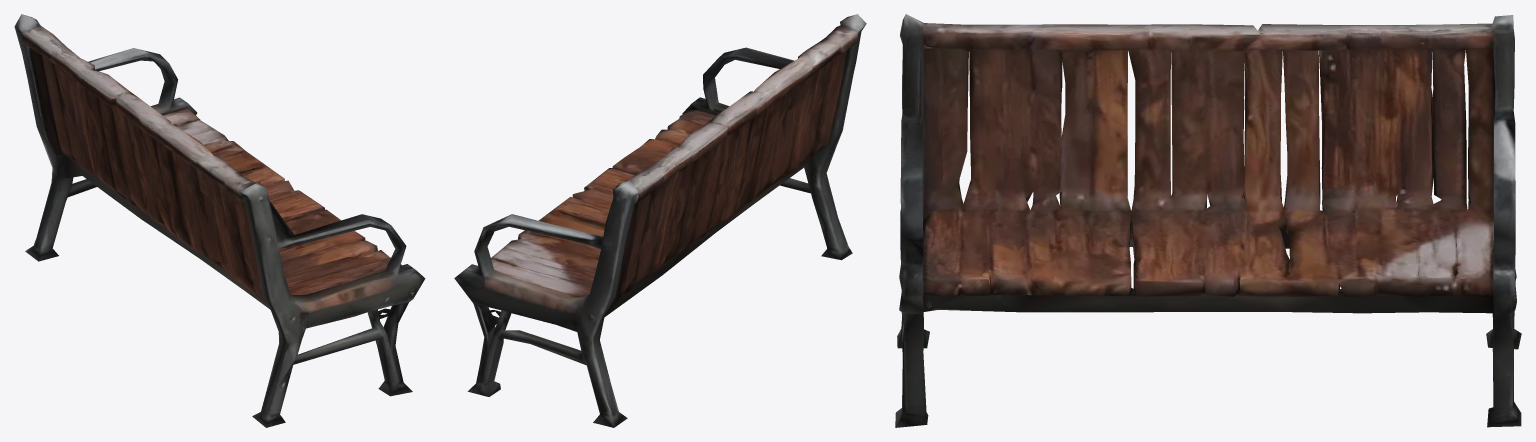
File: station-bench.glb
3 views of the same model, side by side, from view 1: azimuth 30°, elevation 25°; view 2: azimuth 150°, elevation 25°; view 3: azimuth 270°, elevation 25° (orthographic). The views are drawn at different scales.
Visible parts, largest first — view 1: tripo_node_1b583f81-bcf2-468d-b79d-5e8791ade20d; view 2: tripo_node_1b583f81-bcf2-468d-b79d-5e8791ade20d; view 3: tripo_node_1b583f81-bcf2-468d-b79d-5e8791ade20d.
Boxes of the visible parts, <box> form: tripo_node_1b583f81-bcf2-468d-b79d-5e8791ade20d: <box>14,14,425,427</box>; tripo_node_1b583f81-bcf2-468d-b79d-5e8791ade20d: <box>454,14,866,427</box>; tripo_node_1b583f81-bcf2-468d-b79d-5e8791ade20d: <box>895,14,1521,427</box>.
Size of the model in its own units: 0.425 by 0.5584 by 1.
1 material, 1 textured.
